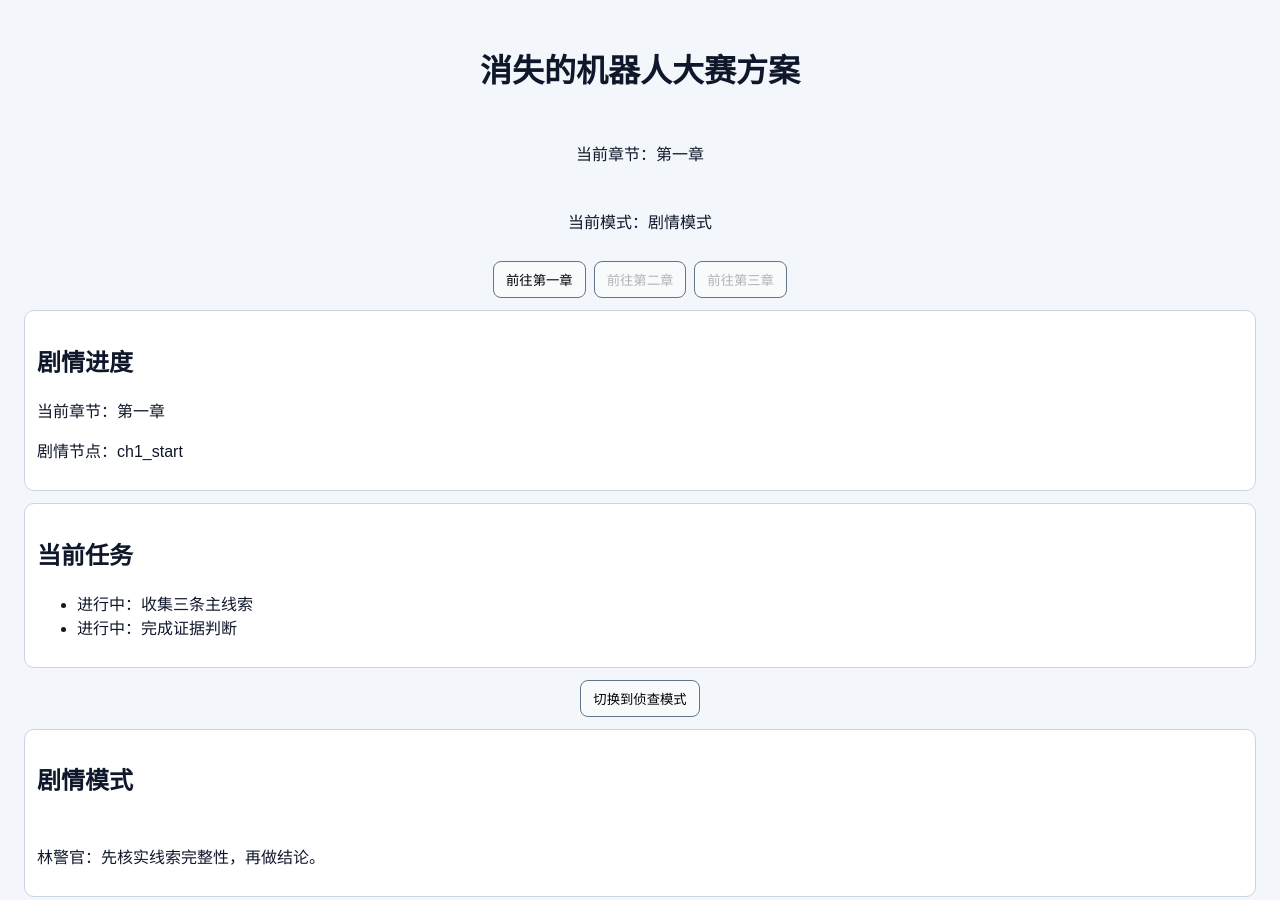
it: chapter 1 flow › cannot open judgement quiz before collecting required clues
This screenshot has width=1280, height=900.
Click the button "切换到侦查模式" at (640, 698), box [580,680,700,716]
(page scrolled)
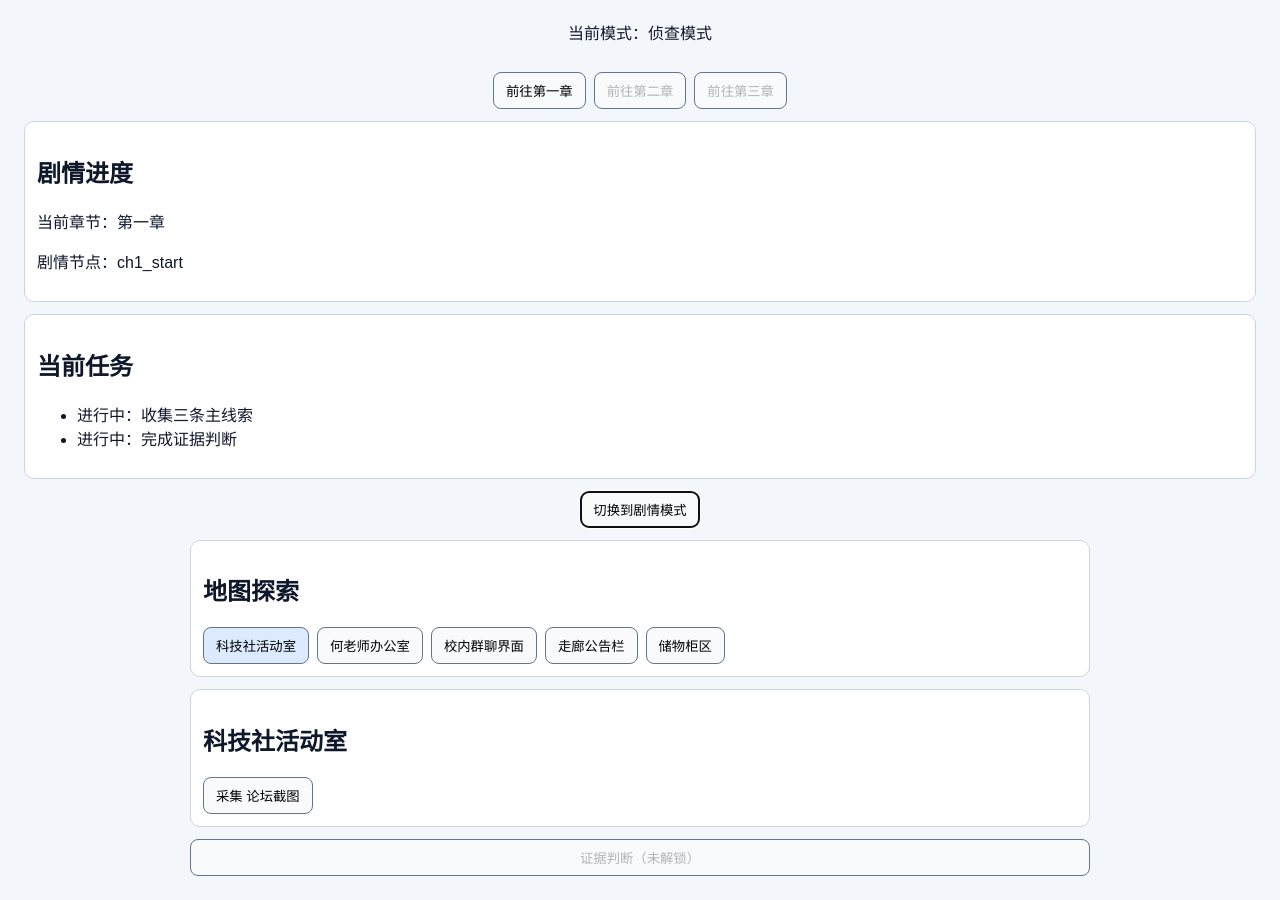
Expected: the button "证据判断（未解锁）" is disabled, [190,839,1090,876]
